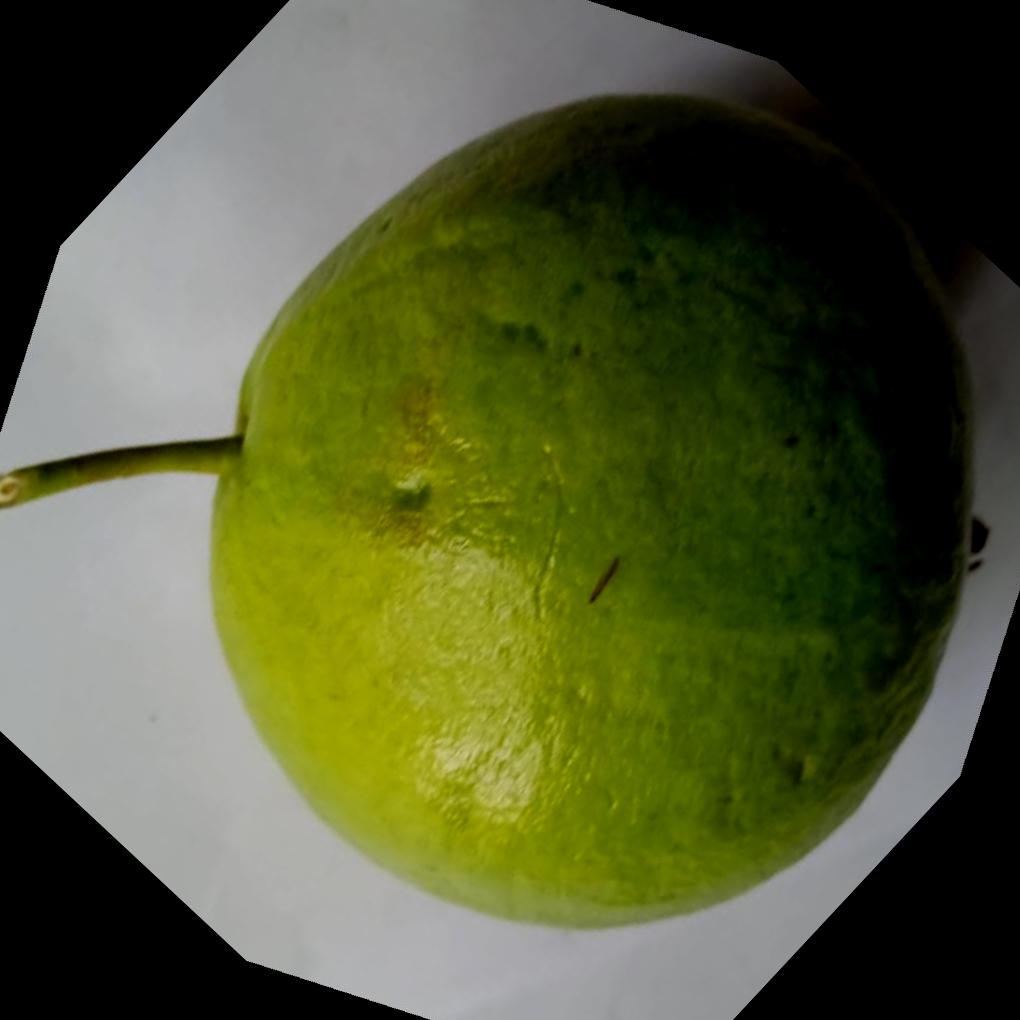FreshGuava: (176, 91, 973, 934)
